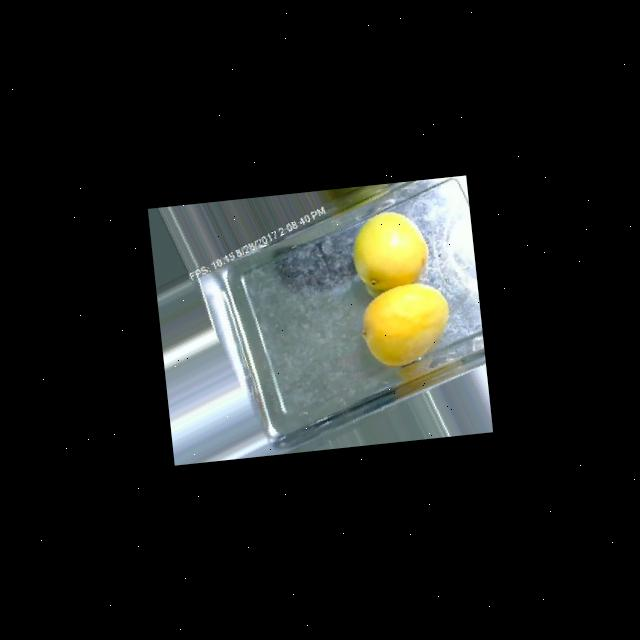Mango: (357, 278, 454, 368), (348, 207, 431, 295)
